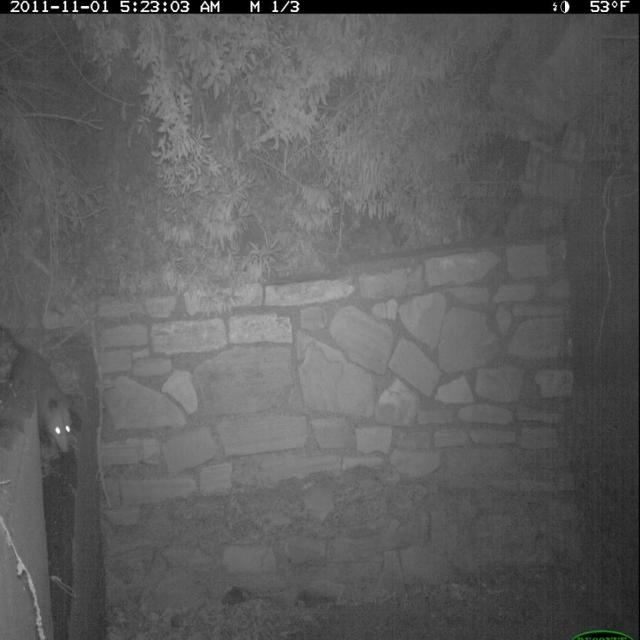opossum: (3, 319, 82, 460)
